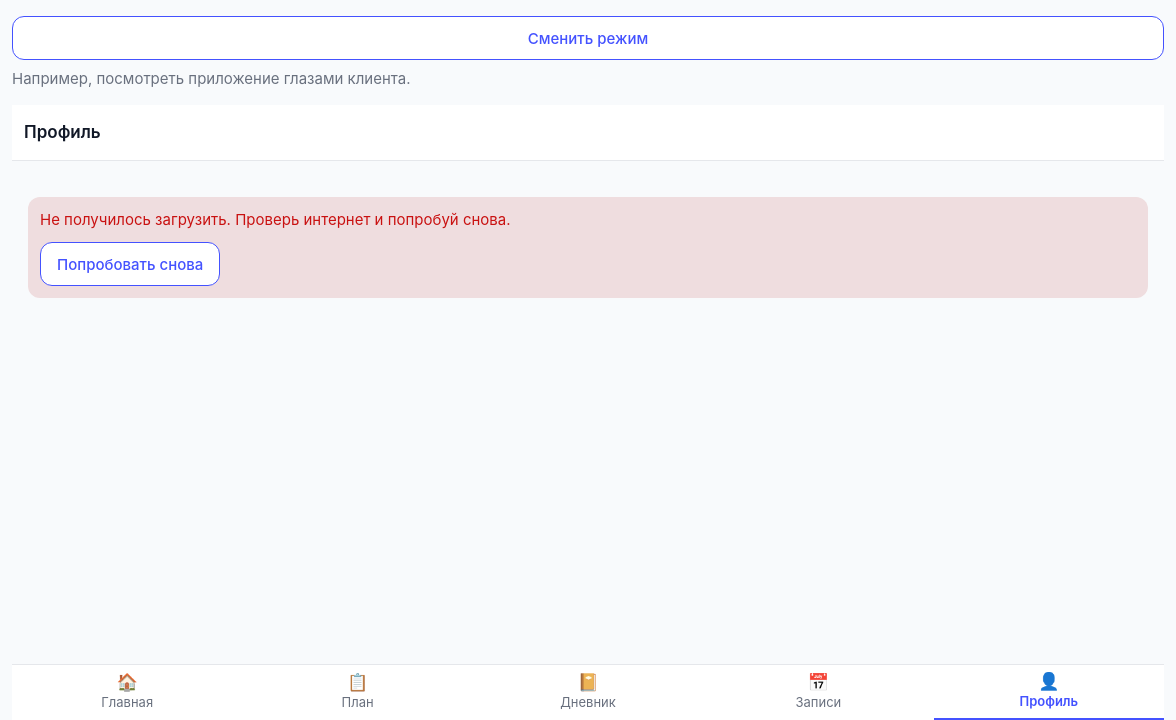
it: DRF-1128 — surface switch › keeps the way back — the switch is not one-way
Click the button "Сменить режим": (588, 38) [12, 16, 1164, 60]
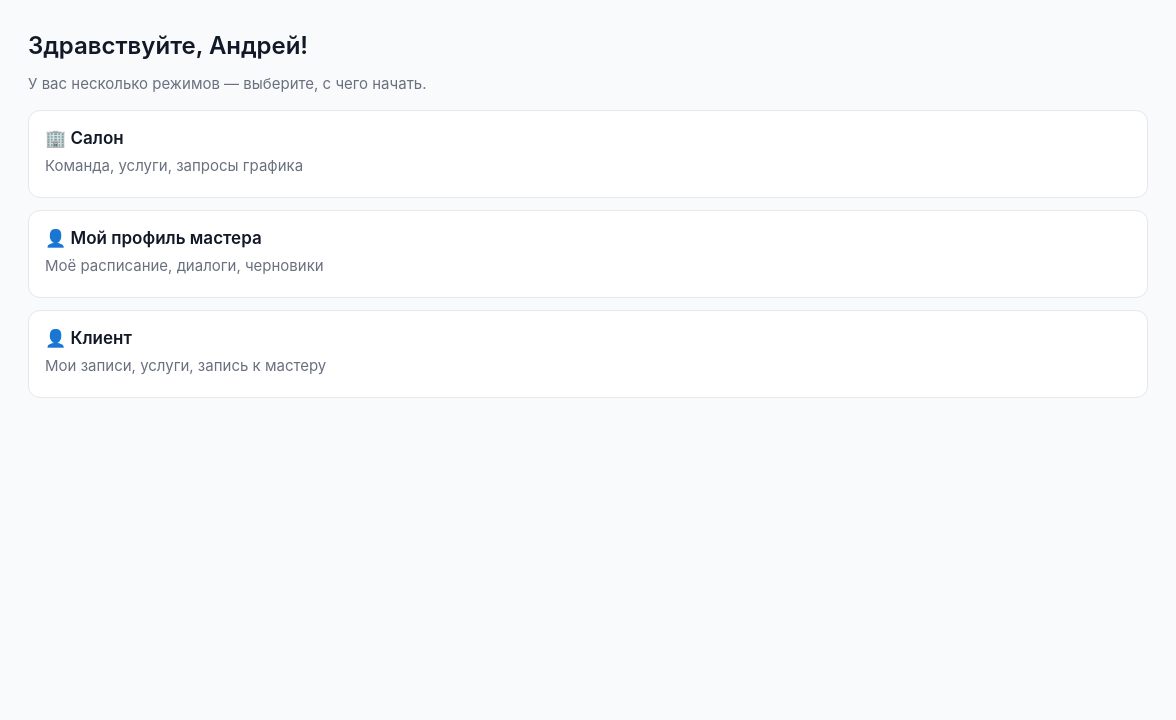
Expected: the button with aria-label "Перейти в Салон" is shown, [28, 110, 1148, 198]
